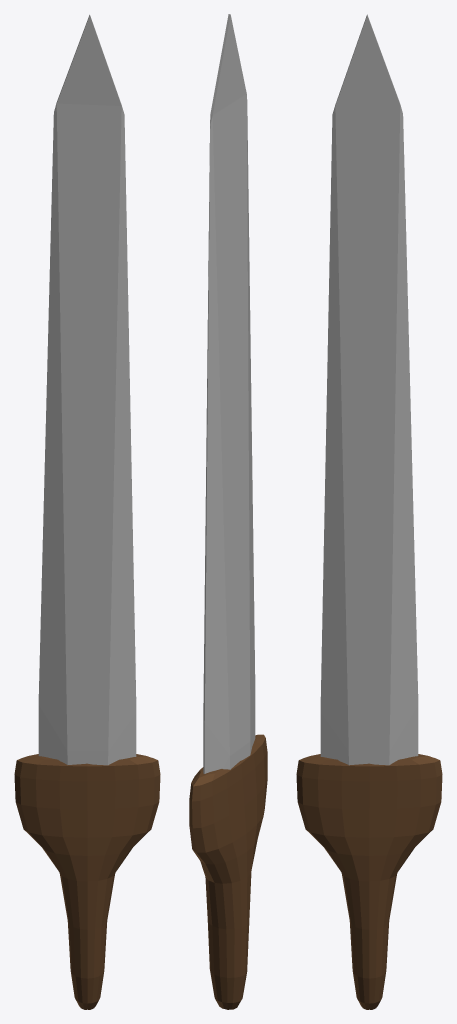
File: gladiys.fbx
3 renders of one model, left to right at view 1: azimuth 90°, elevation 25°; view 2: azimuth 150°, elevation 25°; view 3: azimuth 270°, elevation 25°, orthographic.
Visible parts, largest first — view 1: Cube, Cylinder; view 2: Cube, Cylinder; view 3: Cube, Cylinder.
Part boxes in pixels (box(x1,y1,x2,y2)): Cube: box(38, 14, 136, 765); Cylinder: box(14, 754, 160, 1009); Cube: box(203, 14, 255, 773); Cylinder: box(189, 734, 267, 1009); Cube: box(320, 14, 418, 765); Cylinder: box(296, 754, 442, 1009).
Bounding box in the file's own units: 15.74 × 400 × 53.23.
